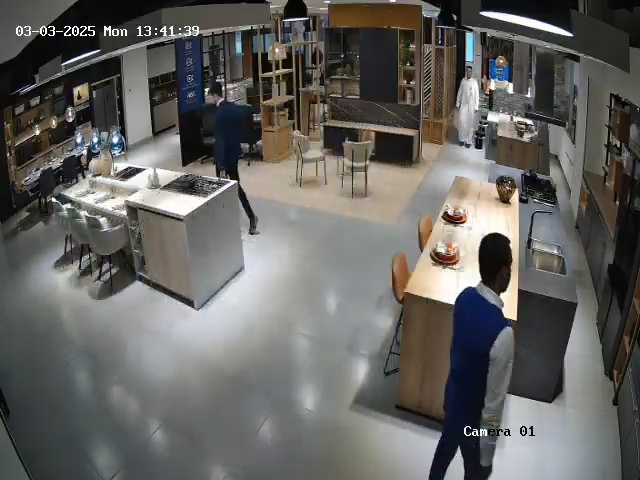employee: (428, 233, 515, 480), (208, 82, 260, 236)
male: (456, 62, 480, 149)
